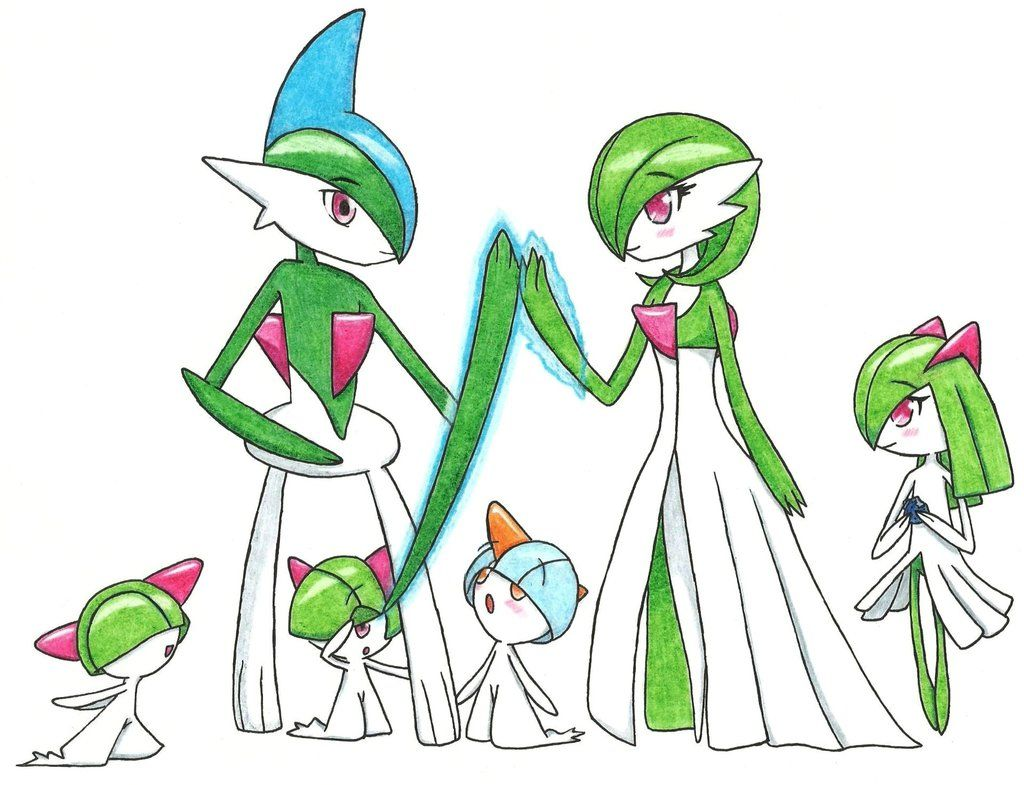gardevoir: (536, 98, 908, 742)
